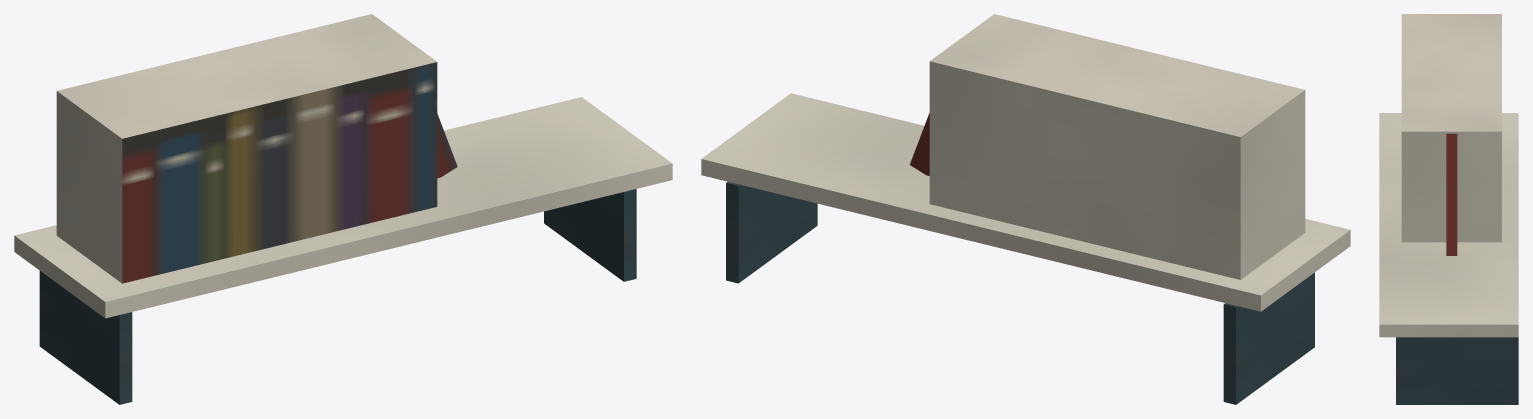
The model's file is shelf_cell.fbx.
The picture shows the model from 3 angles, left to right: view 1: azimuth 30°, elevation 25°; view 2: azimuth 150°, elevation 25°; view 3: azimuth 270°, elevation 25°; orthographic projection. The views are drawn at different scales.
Parts seen in each view (by area): view 1: shelf_cell; view 2: shelf_cell; view 3: shelf_cell.
Boxes of the visible parts, x1=… form: shelf_cell: x1=14, y1=14, x2=672, y2=404; shelf_cell: x1=701, y1=14, x2=1350, y2=404; shelf_cell: x1=1379, y1=14, x2=1518, y2=404.
Size of the model in its own units: 0.9 by 0.397 by 0.25.
Materials: 1 (1 with a texture image).
